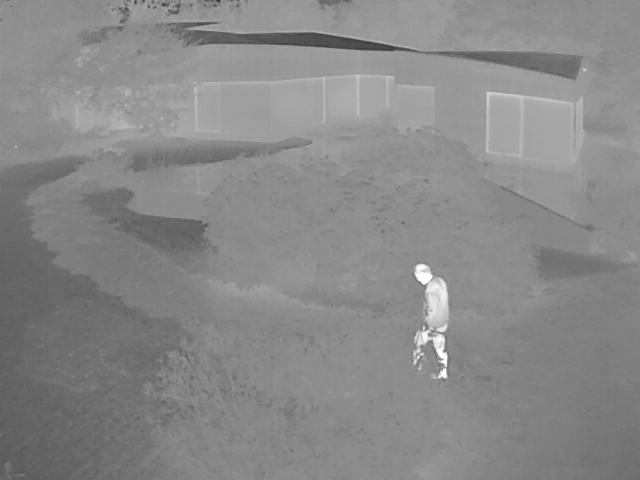person: (412, 262, 451, 379)
